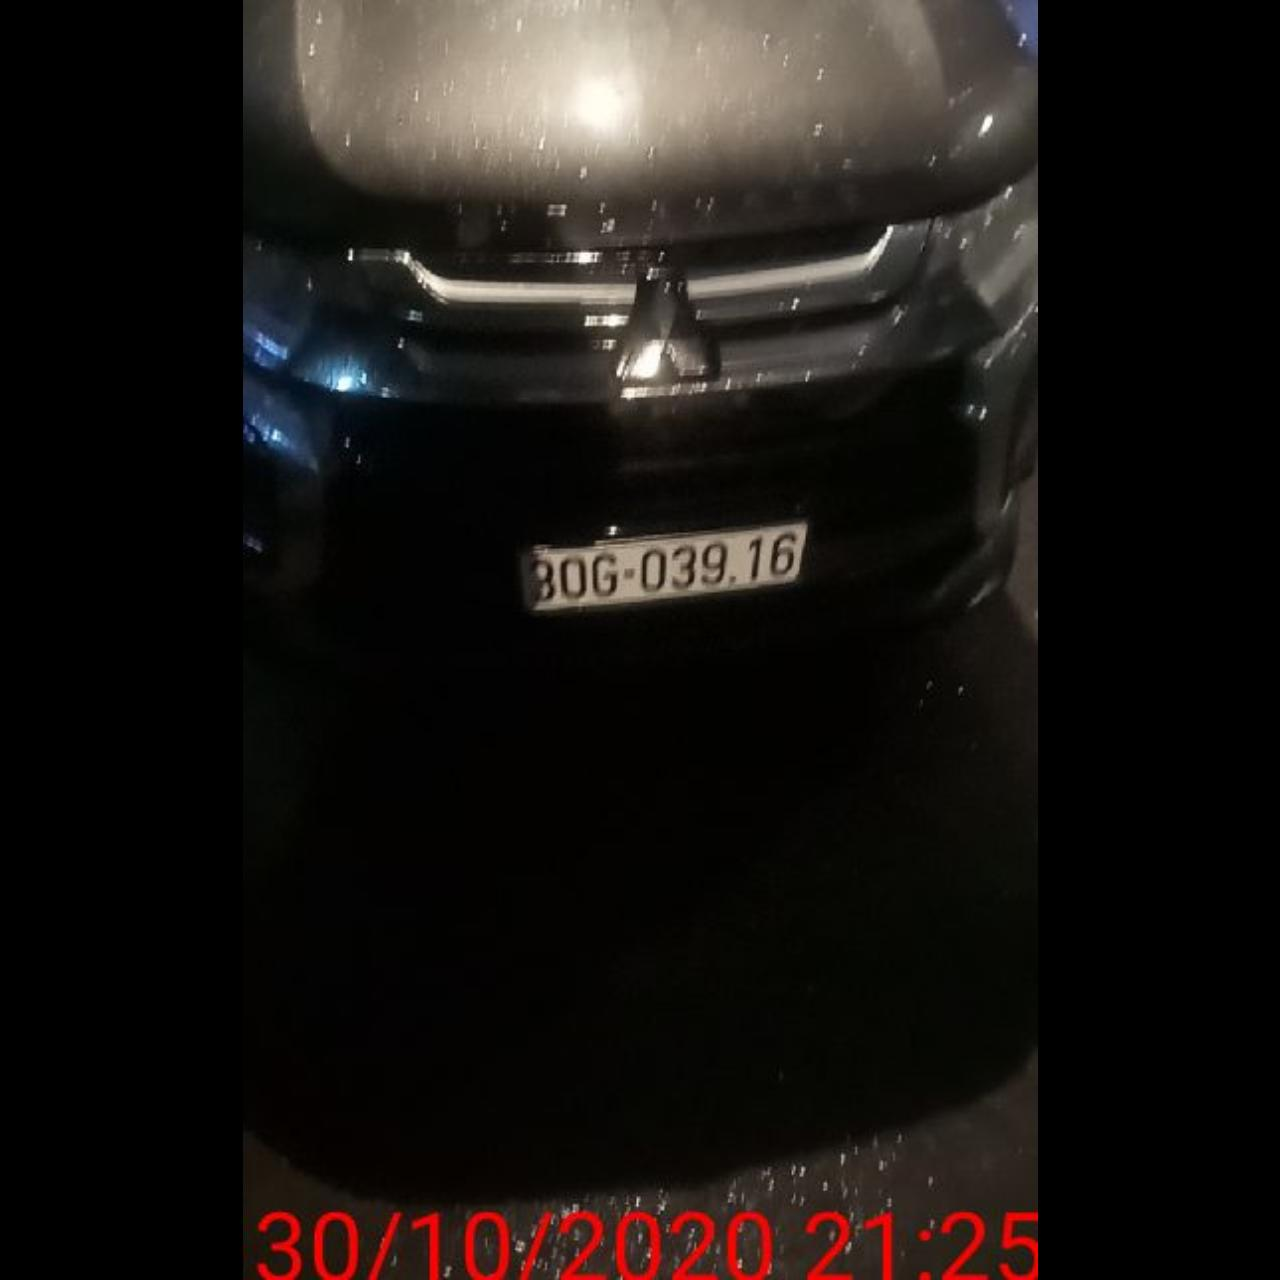bienso: (509, 511, 812, 621)
